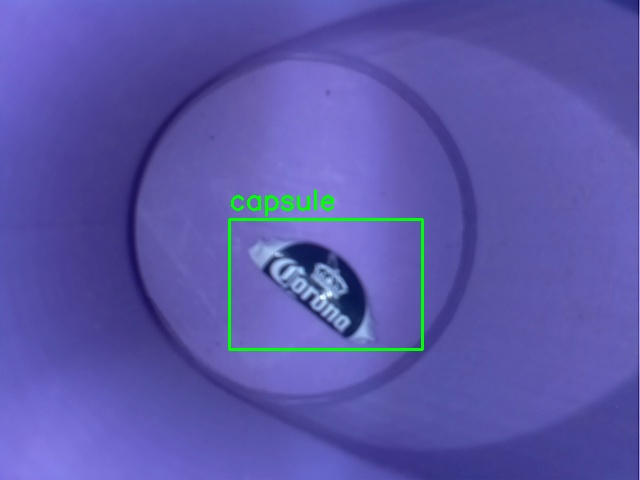capsule: (229, 219, 422, 349)
